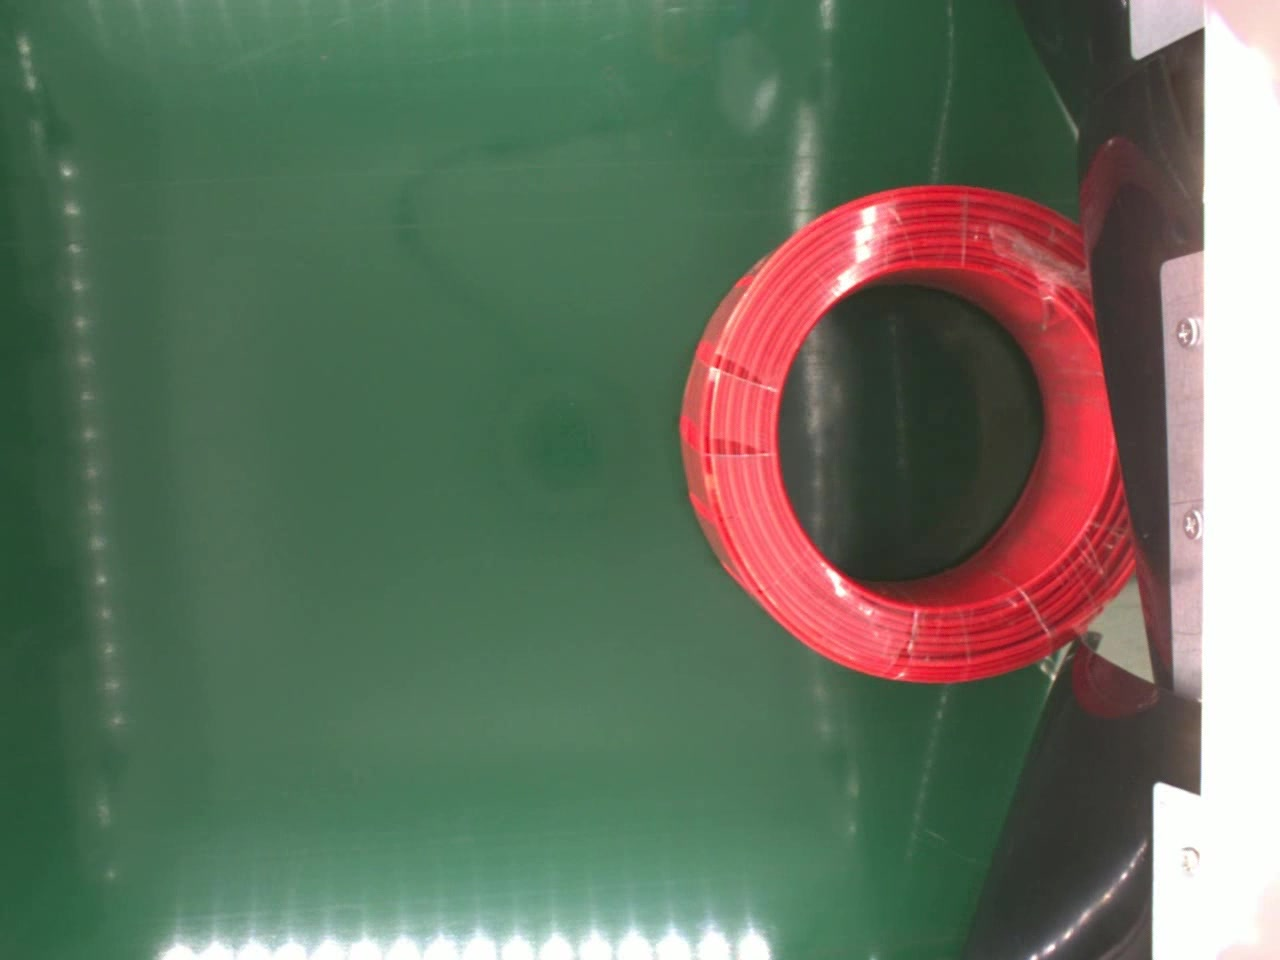red: (673, 177, 1132, 684)
